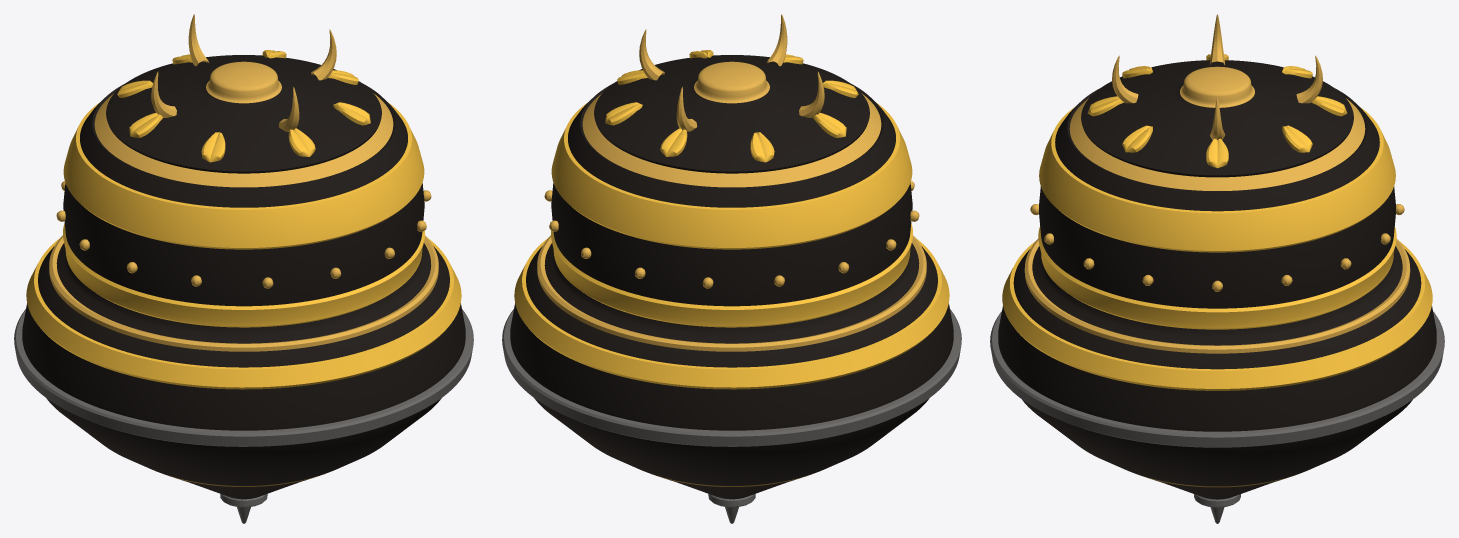
File: gasing_sarawak.glb
3 renders of one model, left to right at view 1: azimuth 30°, elevation 25°; view 2: azimuth 150°, elevation 25°; view 3: azimuth 270°, elevation 25°, orthographic.
Visible parts, largest first — view 1: Gasing_sarawak; view 2: Gasing_sarawak; view 3: Gasing_sarawak.
Part boxes in pixels (bbox=[...]): Gasing_sarawak: bbox=[14, 14, 473, 523]; Gasing_sarawak: bbox=[502, 14, 961, 523]; Gasing_sarawak: bbox=[990, 14, 1444, 523].
Bounding box in the file's own units: 0.88 × 1 × 0.88.
